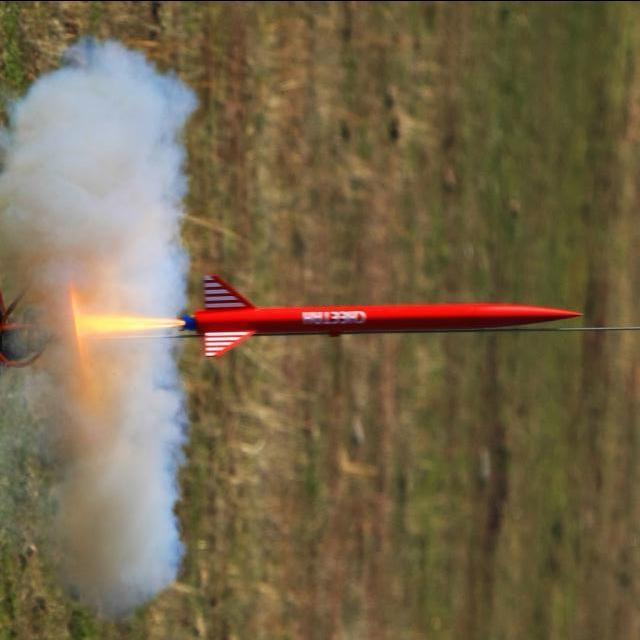Missile: (168, 261, 575, 365)
